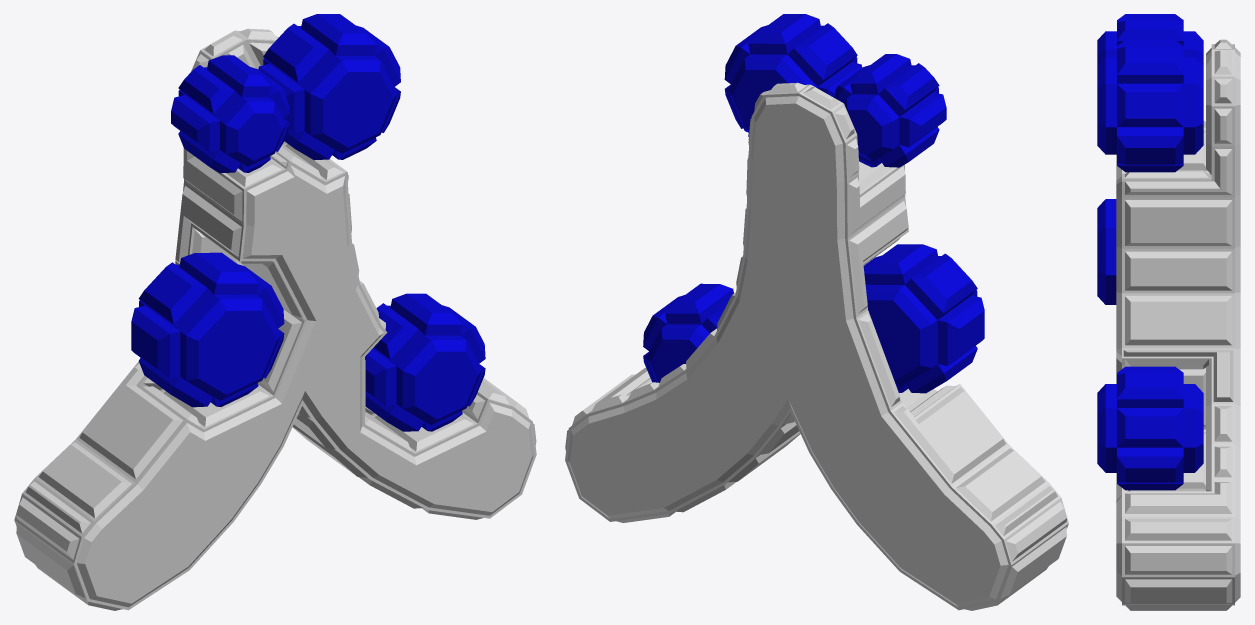
The model's file is Ch_China_人_01.fbx.
3 renders of one model, left to right at view 1: azimuth 30°, elevation 25°; view 2: azimuth 150°, elevation 25°; view 3: azimuth 270°, elevation 25°, orthographic. The views are drawn at different scales.
Parts seen in each view (by area): view 1: sphere1; view 2: sphere1; view 3: sphere1.
Part boxes in pixels (bbox=[...]): sphere1: bbox=[14, 14, 536, 610]; sphere1: bbox=[565, 14, 1068, 610]; sphere1: bbox=[1097, 14, 1240, 610].
Size of the model in its own units: 0.9075 by 0.97 by 0.2541.
